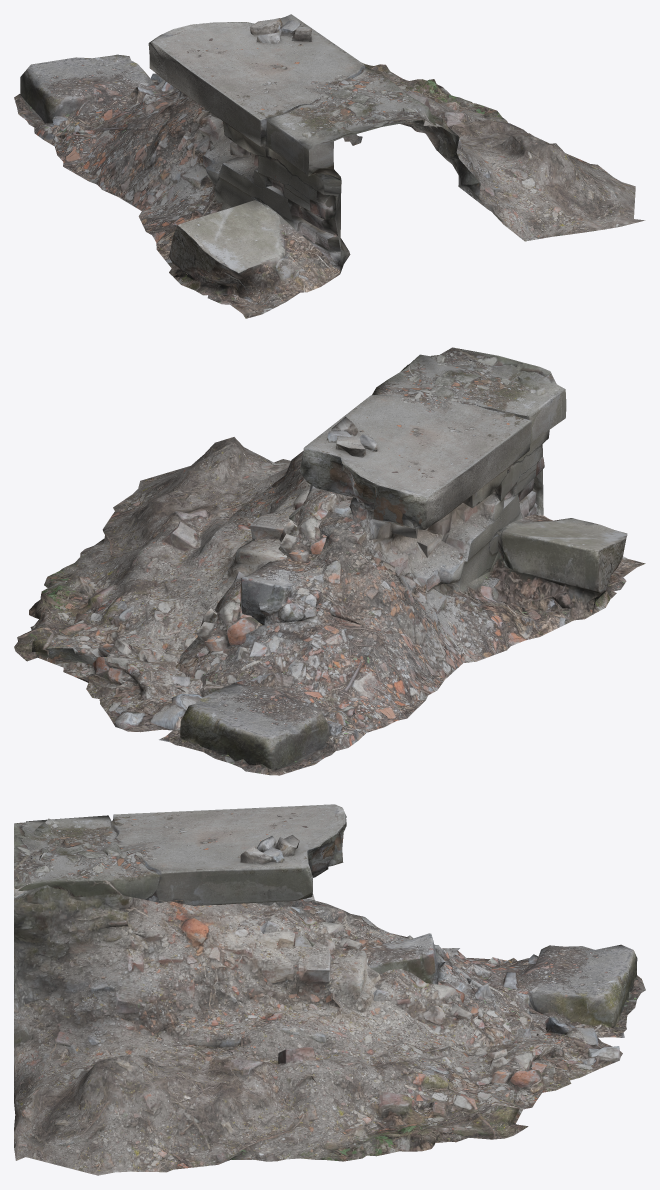
The model's file is SM_Stairs_01_02.fbx.
The picture shows the model from 3 angles, top to bottom: view 1: azimuth 30°, elevation 25°; view 2: azimuth 150°, elevation 25°; view 3: azimuth 270°, elevation 25°; orthographic projection. The views are drawn at different scales.
Parts seen in each view (by area): view 1: sm_Stairs_01_02_LOD0; view 2: sm_Stairs_01_02_LOD0; view 3: sm_Stairs_01_02_LOD0.
Part boxes in pixels (bbox=[...]): sm_Stairs_01_02_LOD0: bbox=[14, 14, 645, 318]; sm_Stairs_01_02_LOD0: bbox=[14, 347, 645, 775]; sm_Stairs_01_02_LOD0: bbox=[14, 804, 645, 1175].
Size of the model in its own units: 333 by 296 by 109.
